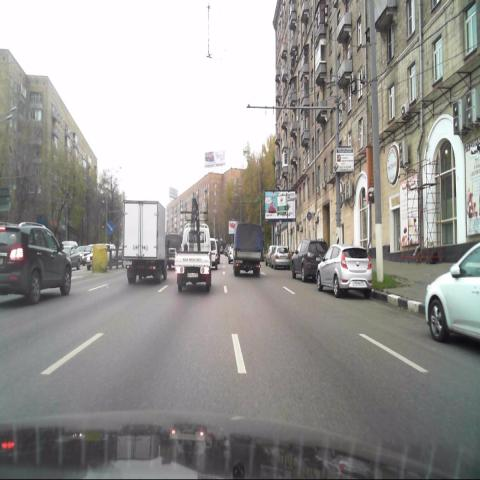4_2_1: (106, 219, 114, 235)
